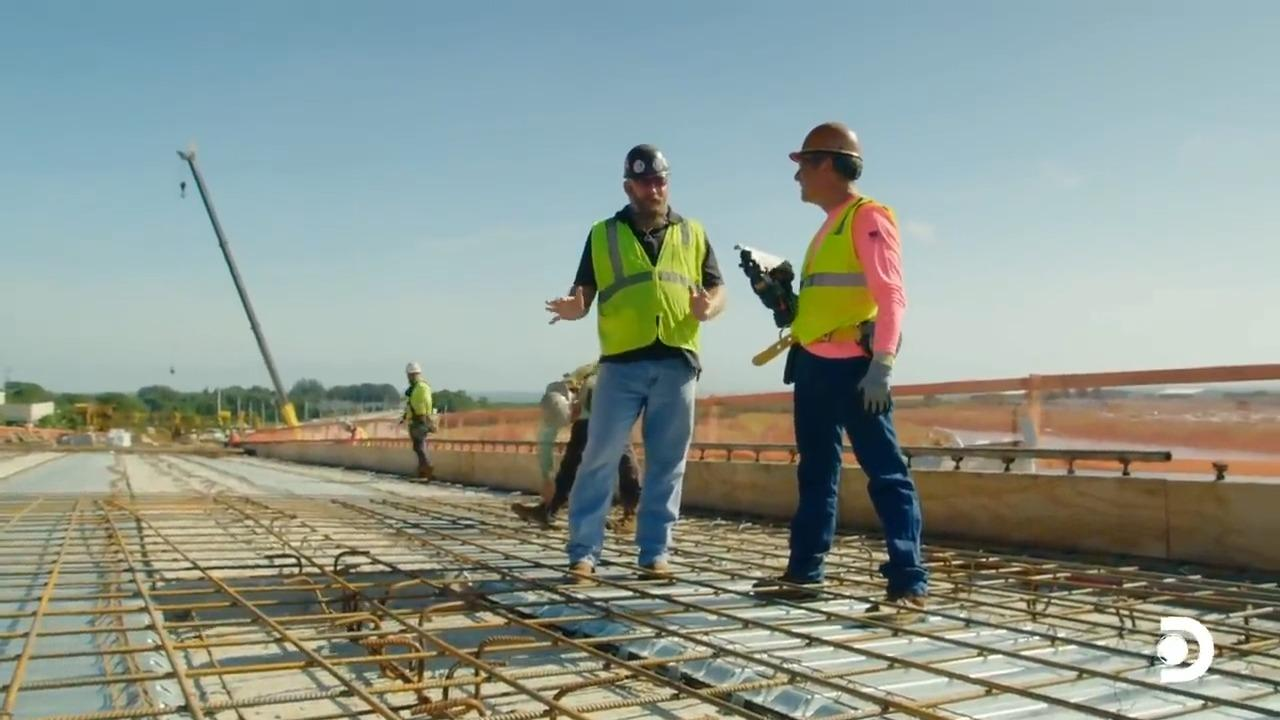Gloves: (857, 366, 900, 417)
Helmet: (623, 143, 670, 179), (542, 382, 569, 422)
Person: (544, 143, 726, 582), (510, 362, 641, 528), (396, 361, 436, 482)
Safety Boot: (871, 584, 934, 620), (750, 571, 823, 601), (510, 500, 555, 527), (568, 561, 599, 587), (637, 558, 671, 580)
Safety Vest: (592, 223, 701, 348), (798, 229, 897, 339), (407, 389, 429, 416)
bare-arms: (542, 286, 590, 322), (680, 281, 716, 320)
